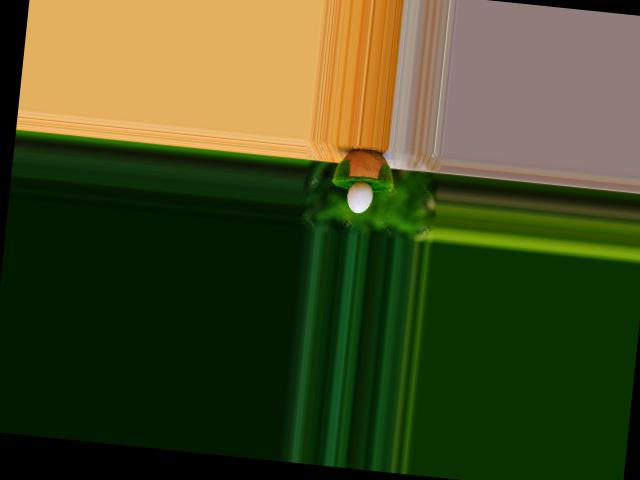egg: (346, 179, 375, 213)
